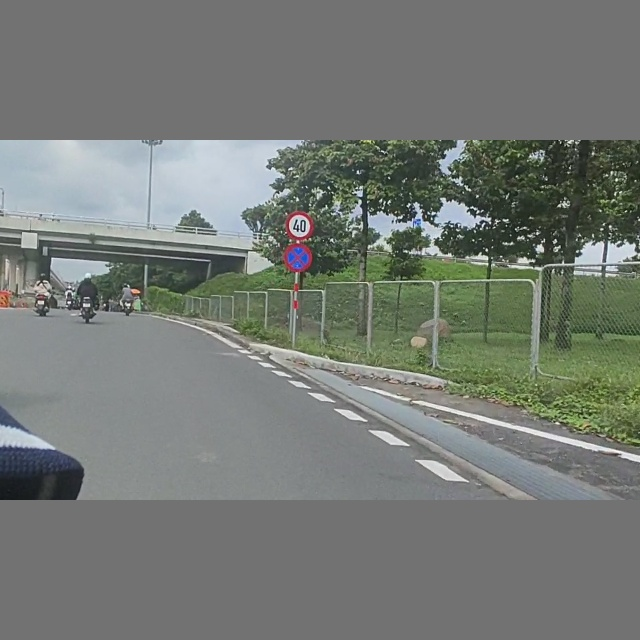P.127*40: (285, 211, 315, 241)
P.130: (284, 244, 312, 273)
